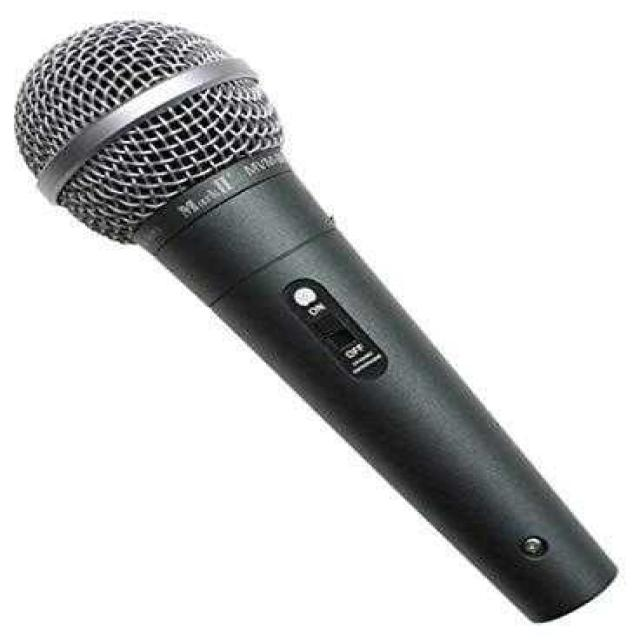microphone: (20, 22, 602, 614)
